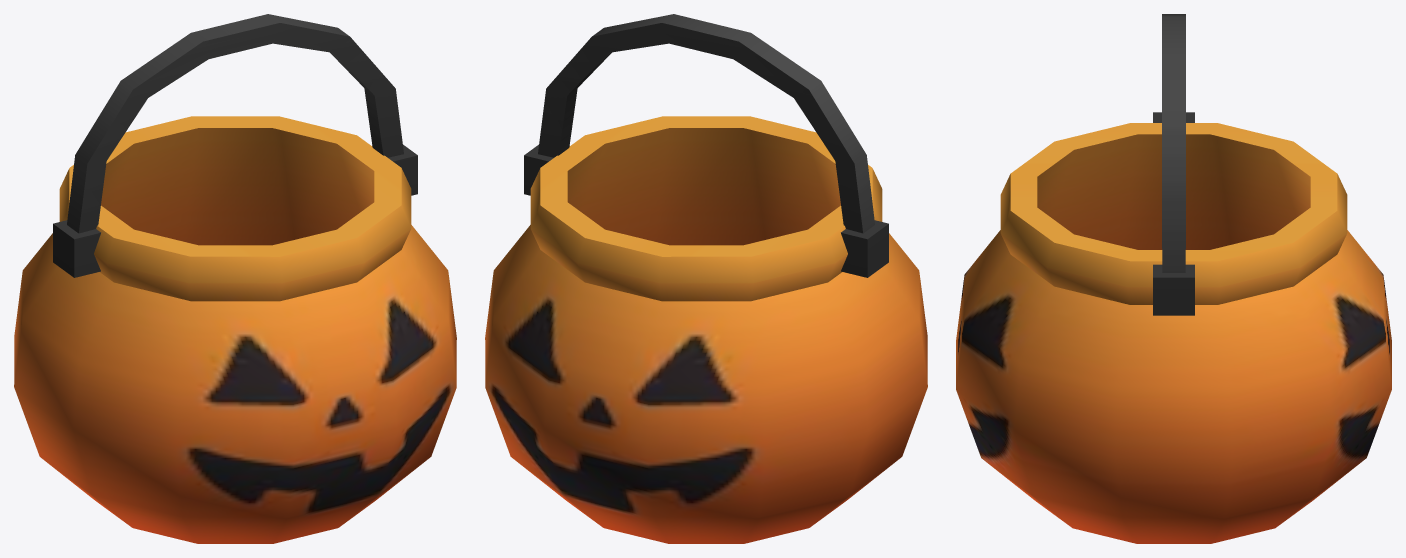
File: candy_bucket_b.glb
3 views of the same model, side by side, from view 1: azimuth 30°, elevation 25°; view 2: azimuth 150°, elevation 25°; view 3: azimuth 270°, elevation 25° (orthographic).
Visible parts, largest first — view 1: Cylinder.255, candy_bucket_B_handle; view 2: Cylinder.255, candy_bucket_B_handle; view 3: Cylinder.255, candy_bucket_B_handle.
Boxes of the visible parts, <box> form: Cylinder.255: <box>14,116,456,543</box>; candy_bucket_B_handle: <box>53,14,417,277</box>; Cylinder.255: <box>485,116,927,543</box>; candy_bucket_B_handle: <box>524,14,888,277</box>; Cylinder.255: <box>956,123,1391,543</box>; candy_bucket_B_handle: <box>1153,14,1194,315</box>.
Size of the model in its own units: 1 by 1.17 by 1.
1 material, 1 textured.
